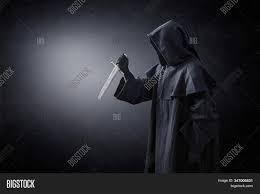Knife: (97, 55, 129, 102)
